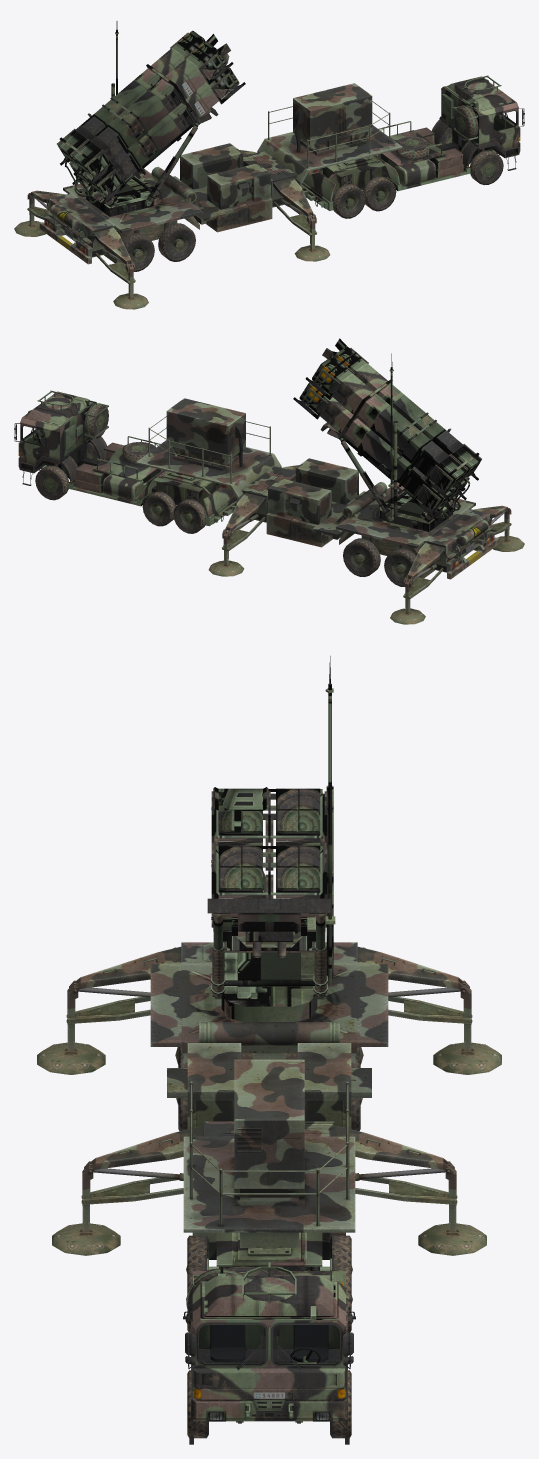
File: PAC3.obj
The picture shows the model from 3 angles, top to bottom: view 1: azimuth 30°, elevation 25°; view 2: azimuth 150°, elevation 25°; view 3: azimuth 270°, elevation 25°; orthographic projection. The views are drawn at different scales.
Visible parts, largest first — view 1: pac_3_laun, pac_3_lau0, window; view 2: pac_3_laun, pac_3_lau0, window; view 3: pac_3_laun, window, pac_3_lau0.
Part boxes in pixels (<box>): pac_3_laun: <box>14,83,402,309</box>; pac_3_lau0: <box>57,21,245,216</box>; window: <box>302,75,524,218</box>; pac_3_laun: <box>136,398,524,624</box>; pac_3_lau0: <box>293,338,481,531</box>; window: <box>14,390,236,533</box>; pac_3_laun: <box>37,931,501,1255</box>; window: <box>183,1232,355,1444</box>; pac_3_lau0: <box>207,656,335,1021</box>.
Bounding box in the file's own units: 22.57 × 11.07 × 10.24.
2 materials, 2 textured.
